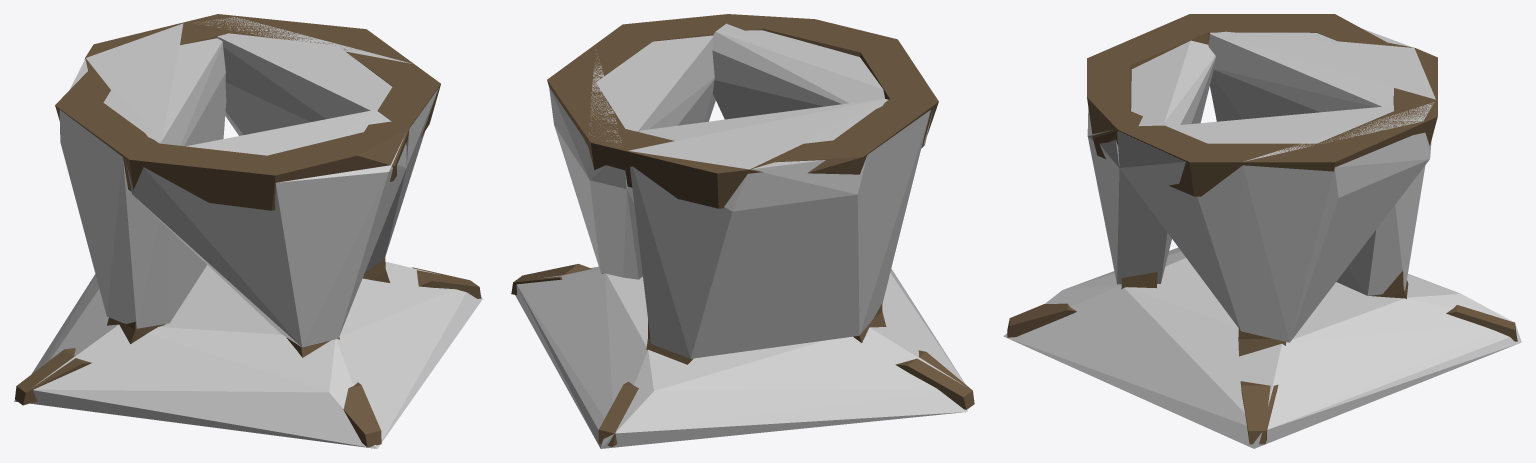
The model's file is SM_Prop_Potion_Stand_01.fbx.
The picture shows the model from 3 angles, left to right: view 1: azimuth 30°, elevation 25°; view 2: azimuth 150°, elevation 25°; view 3: azimuth 270°, elevation 25°; orthographic projection. The views are drawn at different scales.
Parts seen in each view (by area): view 1: SM_Prop_Potion_Stand_01_ConvexHulls, SM_Prop_Potion_Stand_01; view 2: SM_Prop_Potion_Stand_01_ConvexHulls, SM_Prop_Potion_Stand_01; view 3: SM_Prop_Potion_Stand_01_ConvexHulls, SM_Prop_Potion_Stand_01.
Boxes of the visible parts, bbox=[...] form: SM_Prop_Potion_Stand_01_ConvexHulls: bbox=[14, 17, 482, 448]; SM_Prop_Potion_Stand_01: bbox=[15, 14, 481, 447]; SM_Prop_Potion_Stand_01_ConvexHulls: bbox=[515, 23, 967, 448]; SM_Prop_Potion_Stand_01: bbox=[511, 14, 974, 446]; SM_Prop_Potion_Stand_01_ConvexHulls: bbox=[1003, 28, 1521, 448]; SM_Prop_Potion_Stand_01: bbox=[1007, 14, 1517, 444].
Size of the model in its own units: 54.9 by 55.19 by 30.36.
2 materials, 1 textured.
